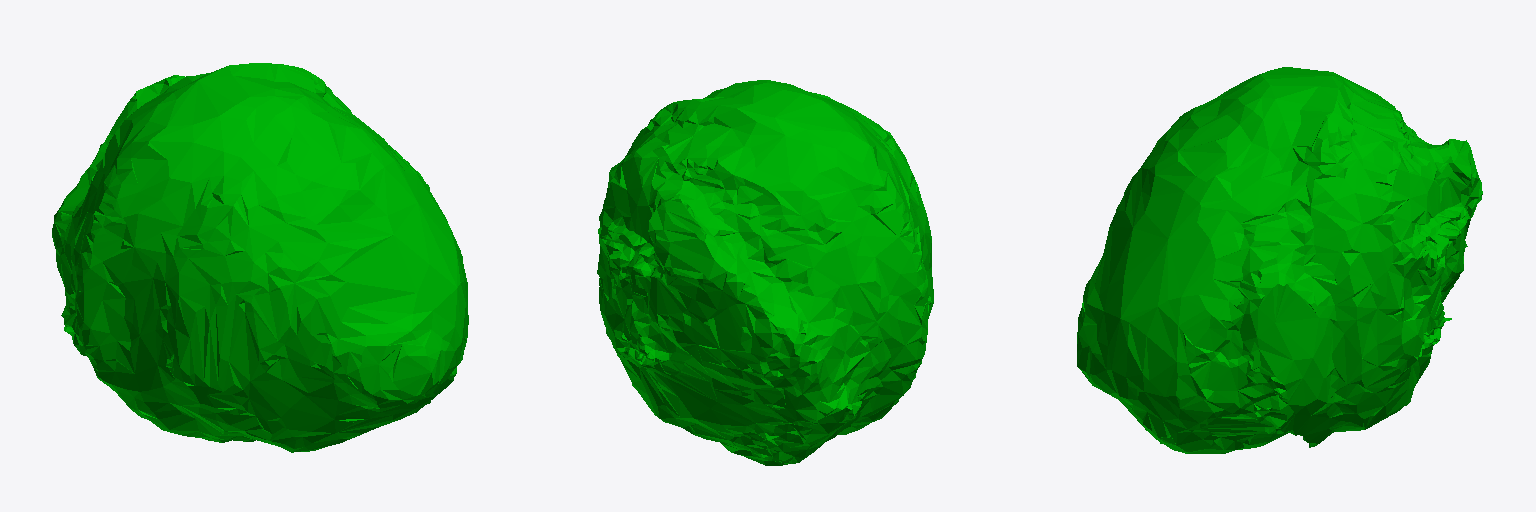
3 views of the same model, side by side, from view 1: azimuth 30°, elevation 25°; view 2: azimuth 150°, elevation 25°; view 3: azimuth 270°, elevation 25° (orthographic).
Visible parts, largest first — view 1: Polygonal_Model_13_Triangles_0; view 2: Polygonal_Model_13_Triangles_0; view 3: Polygonal_Model_13_Triangles_0.
Boxes of the visible parts, x1,y1,x2,y2 form: Polygonal_Model_13_Triangles_0: [52, 63, 468, 452]; Polygonal_Model_13_Triangles_0: [597, 80, 933, 465]; Polygonal_Model_13_Triangles_0: [1077, 67, 1482, 453].
Size of the model in its own units: 2.85 by 2.75 by 3.